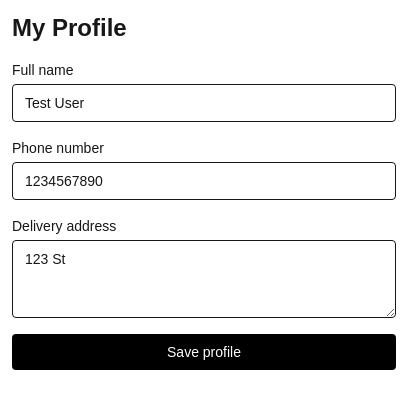
it: ProfileForm › shows field-level error on invalid phone and preserves other field values
Expected: the field labelled "Full name" holds "Test User", [12,84,396,122]
Replace the text in the field labelled "Phone number" with "9999999999" at (204, 181), box [12,162,396,200]
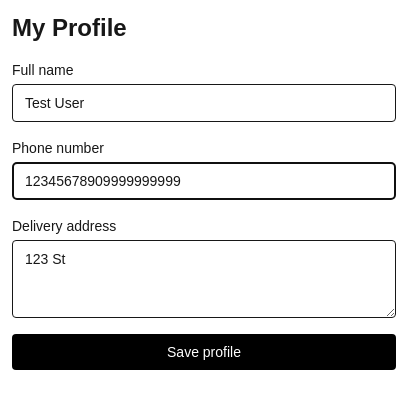
Click the button "Save profile".
click(204, 352)  # box [12,334,396,370]
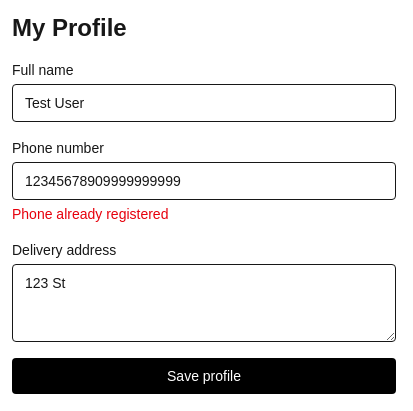
Expected: the field labelled "Full name" holds "Test User", [12,84,396,122]
Expected: the message "Phone already registered" is shown, [12,206,168,222]
